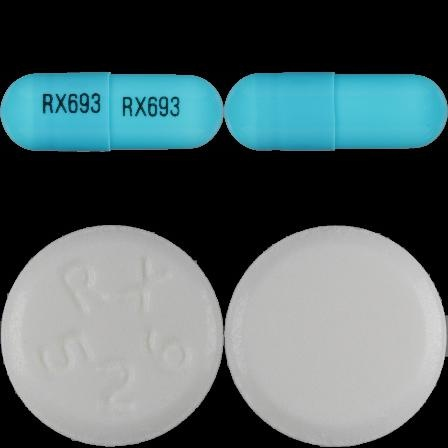68084-244: (0, 0, 224, 224)
